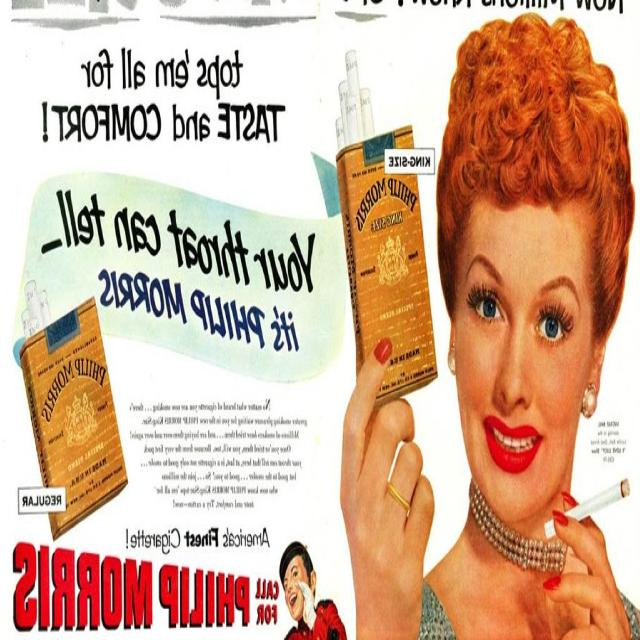smoking: (438, 139, 640, 570)
